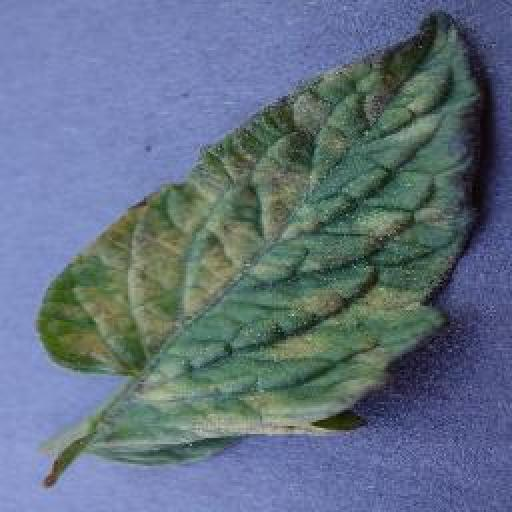Leaf Mold: (36, 6, 491, 466)
